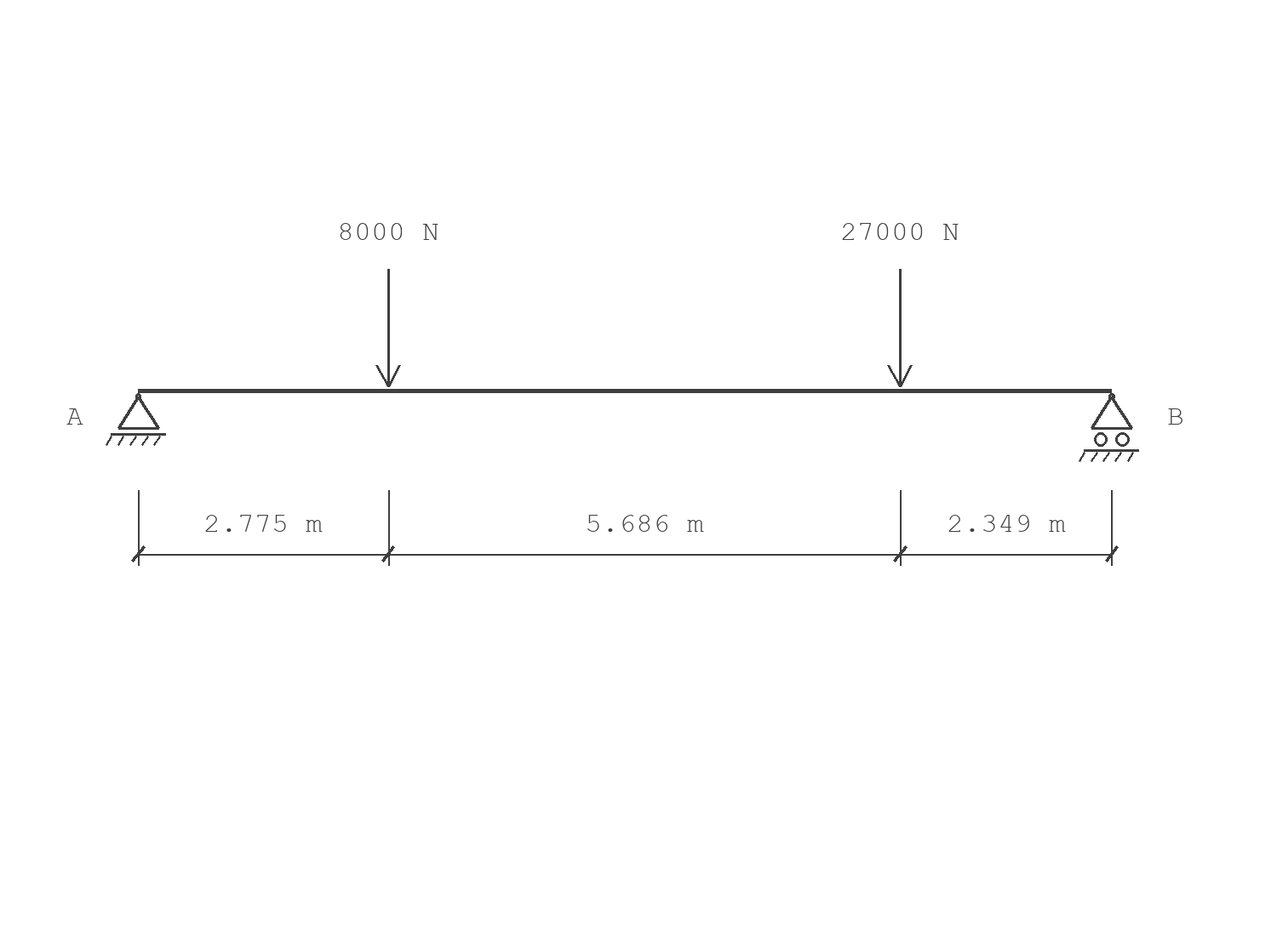pin_support: (106, 393, 166, 446)
point_load: (375, 269, 401, 387), (887, 269, 913, 387)
roller_support: (1079, 393, 1139, 462)
